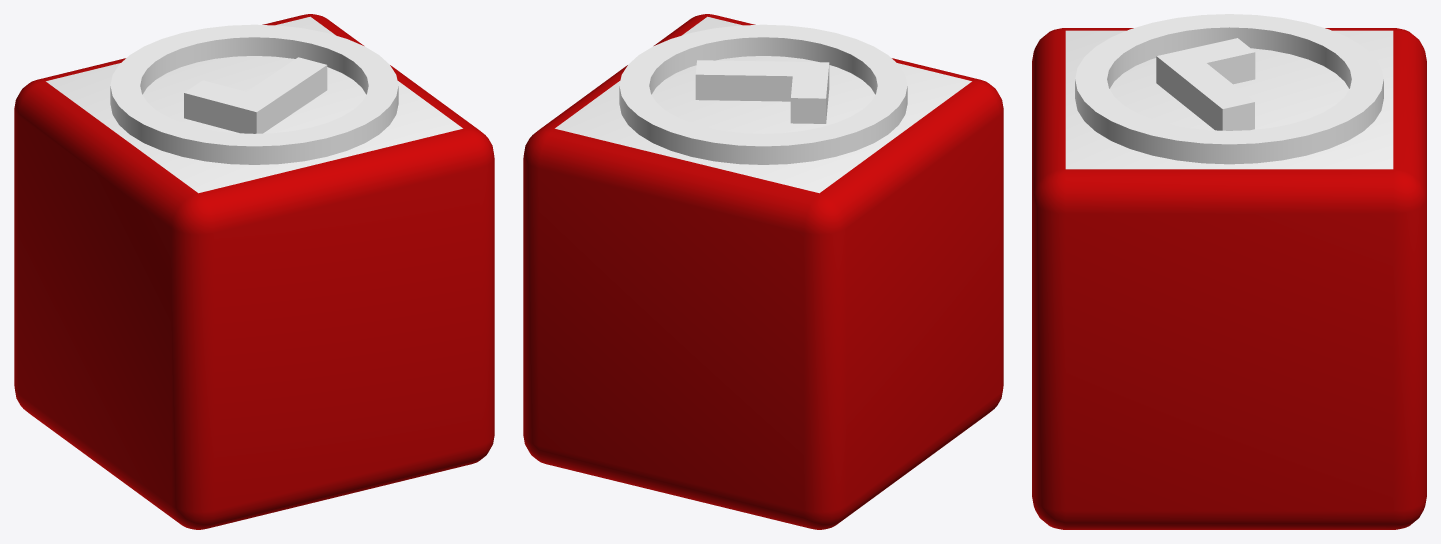
Rendered from Stamp.fbx.
3 renders of one model, left to right at view 1: azimuth 30°, elevation 25°; view 2: azimuth 150°, elevation 25°; view 3: azimuth 270°, elevation 25°, orthographic. The views are drawn at different scales.
Visible parts, largest first — view 1: Cube, Tube, Cube_1; view 2: Cube, Tube, Cube_1; view 3: Cube, Tube, Cube_1.
Boxes of the visible parts, x1,y1,x2,y2 form: Cube: (14, 14, 494, 529); Tube: (110, 24, 398, 164); Cube_1: (184, 57, 327, 133); Cube: (523, 14, 1003, 529); Tube: (619, 24, 907, 164); Cube_1: (695, 60, 829, 123); Cube: (1032, 28, 1426, 529); Tube: (1075, 14, 1383, 164); Cube_1: (1156, 38, 1255, 130).
Bounding box in the file's own units: 200 × 215 × 200.
